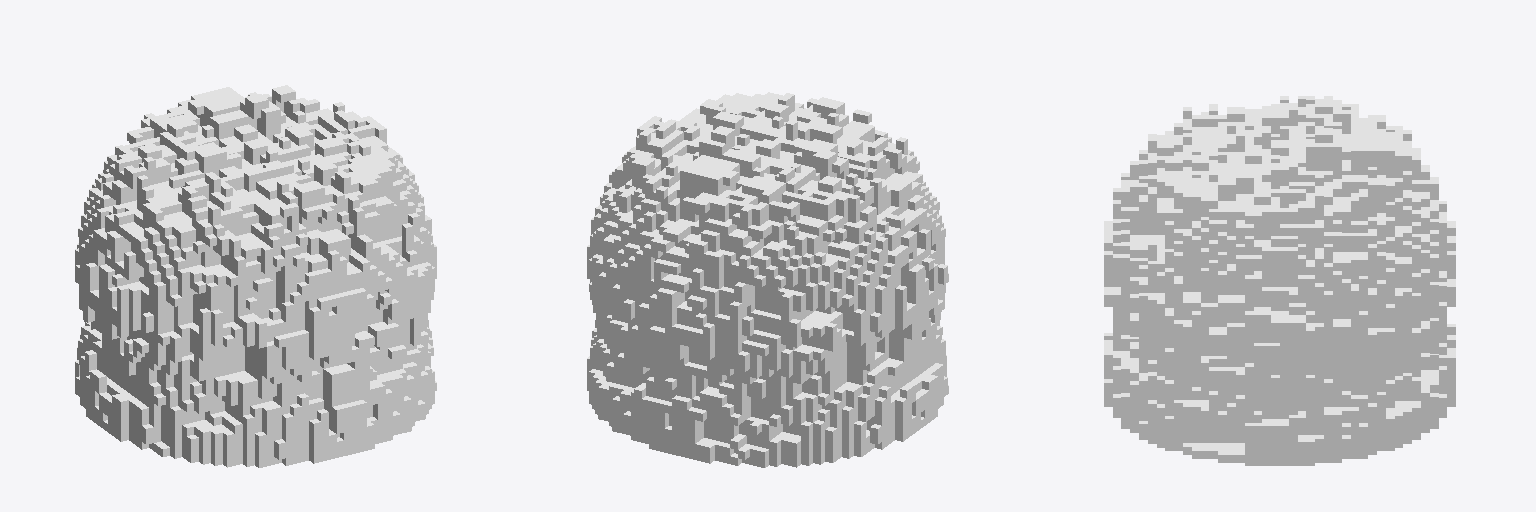
Rendered from buisson.obj.
3 views of the same model, side by side, from view 1: azimuth 30°, elevation 25°; view 2: azimuth 150°, elevation 25°; view 3: azimuth 270°, elevation 25° (orthographic).
Visible parts, largest first — view 1: object 1; view 2: object 1; view 3: object 1.
Part boxes in pixels (bbox=[...]): object 1: bbox=[75, 85, 436, 467]; object 1: bbox=[587, 92, 948, 467]; object 1: bbox=[1104, 96, 1455, 465].
Bounding box in the file's own units: 4 × 3.4 × 4.